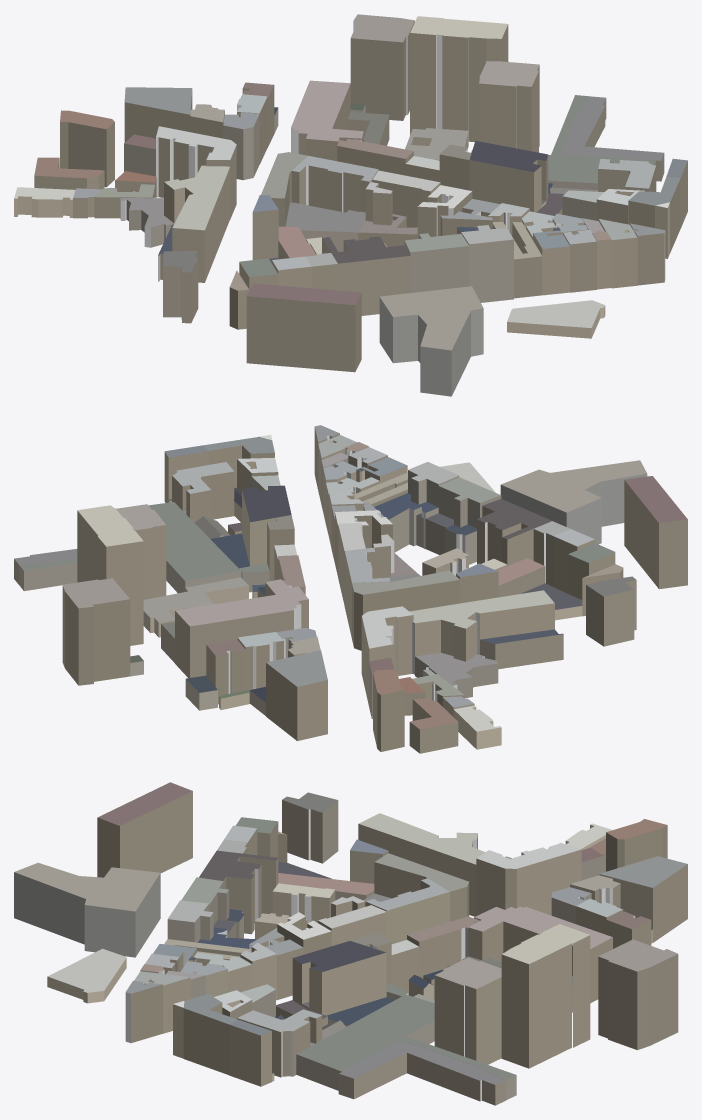
3 views of the same model, one above another, from view 1: azimuth 30°, elevation 25°; view 2: azimuth 150°, elevation 25°; view 3: azimuth 270°, elevation 25° (orthographic).
Visible parts, largest first — view 1: tuile; view 2: tuile; view 3: tuile.
Boxes of the visible parts, x1,y1,x2,y2 form: tuile: (14, 14, 687, 396); tuile: (14, 425, 687, 753); tuile: (14, 782, 687, 1105).
Size of the model in its own units: 271 by 50.98 by 291.
